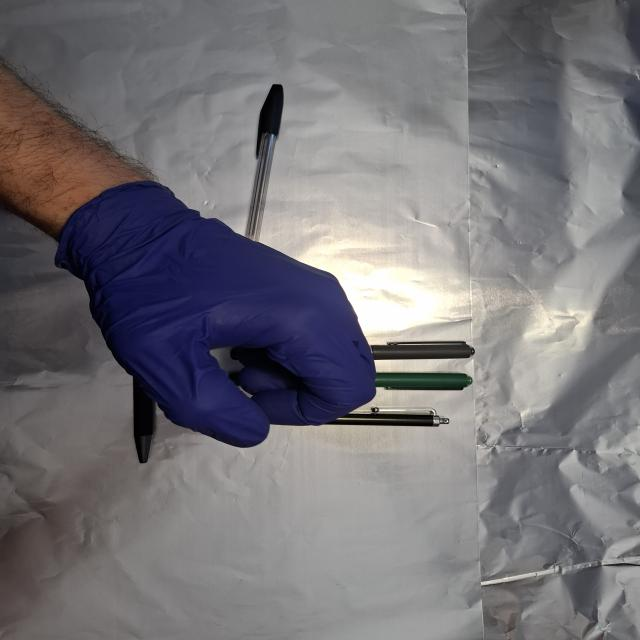glove_on: (49, 181, 382, 450)
